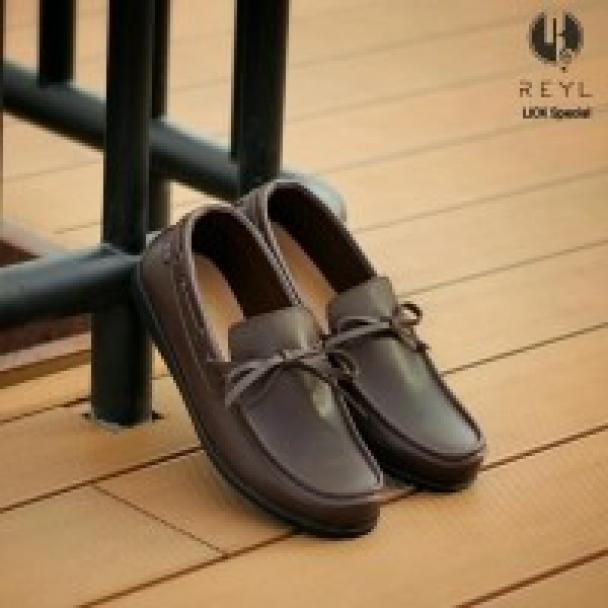Sepatu: (136, 172, 488, 539)
